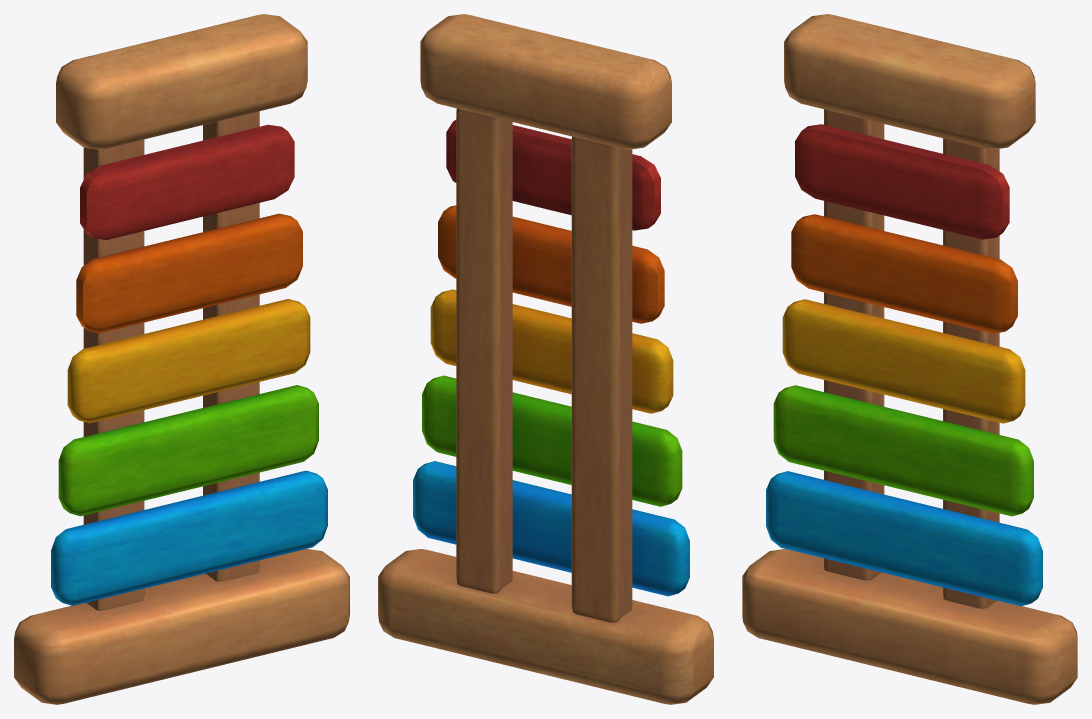
Rendered from 0-xylophone.fbx.
The picture shows the model from 3 angles, left to right: view 1: azimuth 30°, elevation 25°; view 2: azimuth 150°, elevation 25°; view 3: azimuth 330°, elevation 25°; orthographic projection.
Parts seen in each view (by area): view 1: 0-xylophone; view 2: 0-xylophone; view 3: 0-xylophone.
Boxes of the visible parts, left/top/right/bottom form: 0-xylophone: left=14, top=14, right=349, bottom=704; 0-xylophone: left=378, top=14, right=713, bottom=704; 0-xylophone: left=742, top=14, right=1077, bottom=704.
Bounding box in the file's own units: 49.64 × 93.34 × 10.94.
